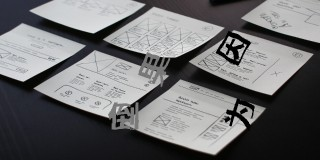为: (223, 97, 255, 128)
倒: (106, 100, 141, 131)
因: (214, 31, 251, 66)
果: (135, 50, 171, 88)
